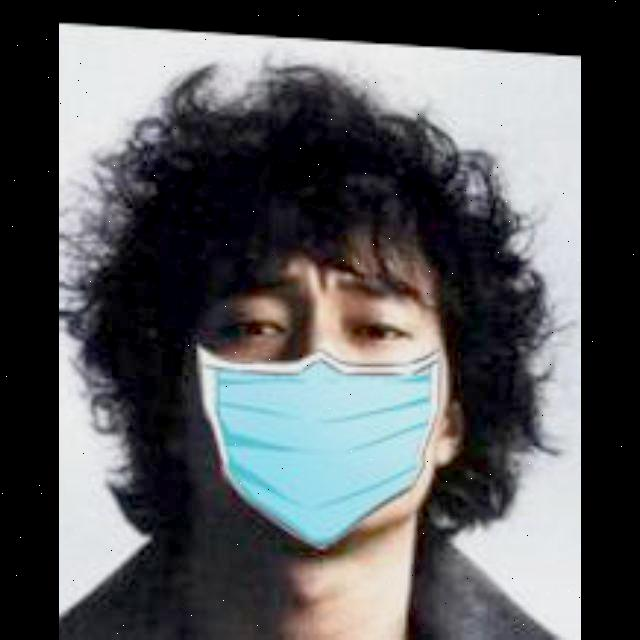suspicion: (110, 138, 532, 590)
